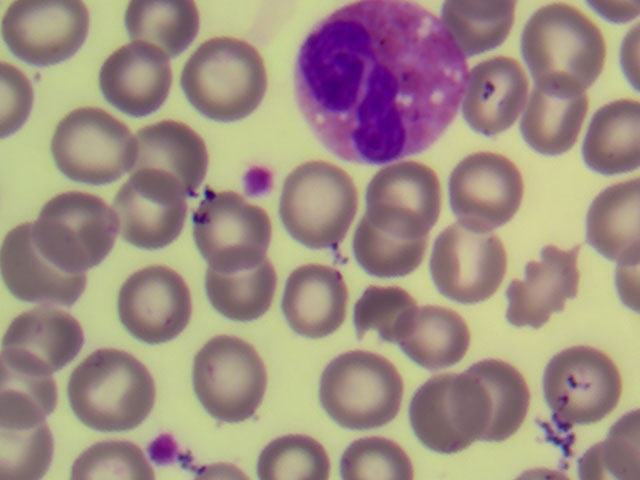Platelets: (238, 164, 274, 195), (152, 437, 178, 462)
RBC: (523, 1, 606, 105), (2, 221, 95, 302), (314, 351, 408, 427), (181, 43, 268, 125), (196, 335, 268, 428), (509, 242, 581, 325), (411, 375, 487, 453), (547, 347, 621, 426), (127, 124, 206, 196), (1, 1, 86, 67), (77, 353, 154, 425), (210, 243, 279, 323), (455, 368, 528, 440), (33, 196, 114, 260), (450, 153, 520, 227), (114, 170, 181, 246), (198, 197, 269, 268), (121, 270, 190, 343), (435, 229, 504, 301), (528, 68, 582, 158), (586, 180, 640, 270), (282, 164, 350, 235), (55, 112, 125, 180), (394, 304, 471, 364), (287, 265, 352, 336), (373, 167, 435, 240), (1, 347, 58, 425), (100, 43, 166, 110), (8, 308, 81, 366), (470, 61, 528, 133), (1, 408, 55, 480), (585, 103, 640, 172), (124, 1, 192, 51), (257, 436, 334, 480), (357, 283, 415, 340), (450, 1, 510, 48), (342, 439, 411, 479), (1, 62, 33, 143), (71, 447, 148, 480), (612, 413, 640, 480), (610, 245, 640, 307), (625, 24, 640, 80)
WBC: (297, 1, 455, 165)
